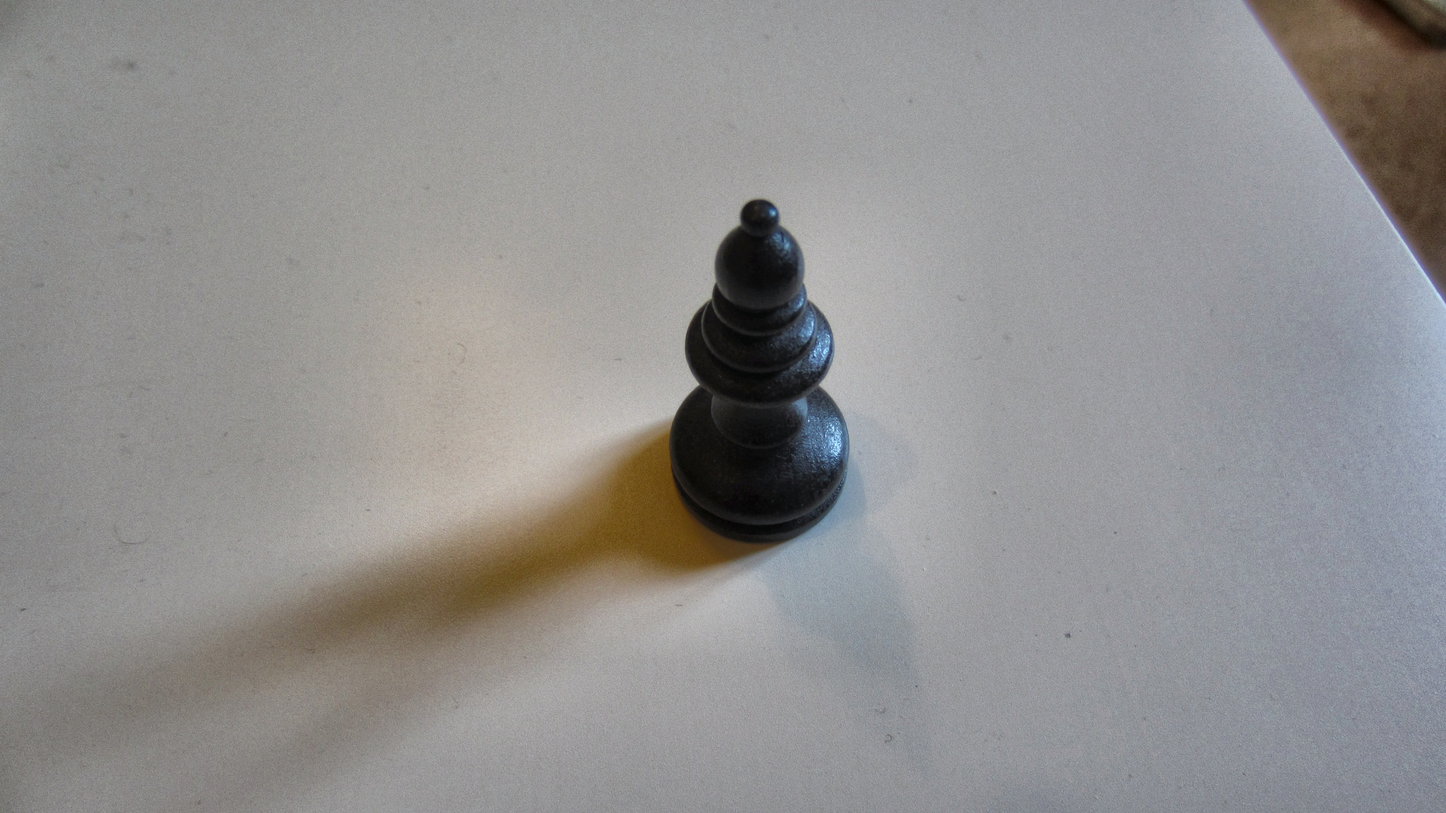black-bishop: (661, 194, 857, 548)
